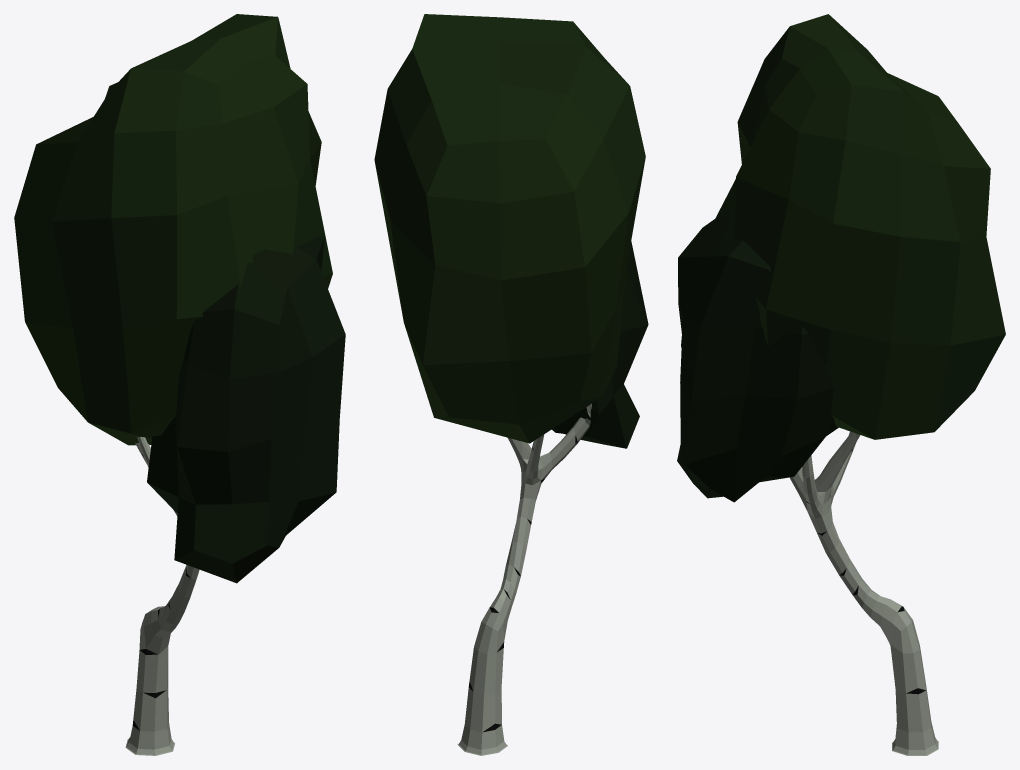
Rendered from BirchTree_2.glb.
3 views of the same model, side by side, from view 1: azimuth 30°, elevation 25°; view 2: azimuth 150°, elevation 25°; view 3: azimuth 270°, elevation 25° (orthographic). The views are drawn at different scales.
Parts seen in each view (by area): view 1: BirchTree_2_Cube.064; view 2: BirchTree_2_Cube.064; view 3: BirchTree_2_Cube.064.
Part boxes in pixels (x1,y1,x2,y2): BirchTree_2_Cube.064: (14, 14, 345, 755); BirchTree_2_Cube.064: (374, 14, 648, 755); BirchTree_2_Cube.064: (677, 14, 1005, 755).
Bounding box in the file's own units: 1.47 × 4.03 × 1.69.
